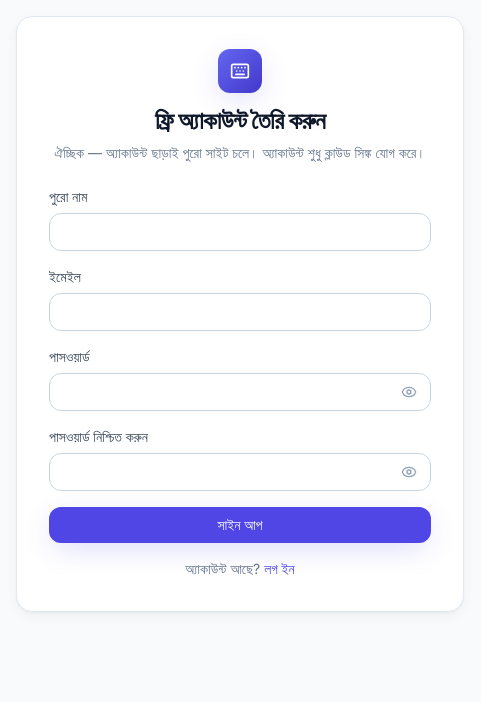
Scenario: RegisterPage validation › blocks submission with per-field errors when everything is empty
Click the button "সাইন আপ".
click(240, 525)  # box [49,507,431,543]
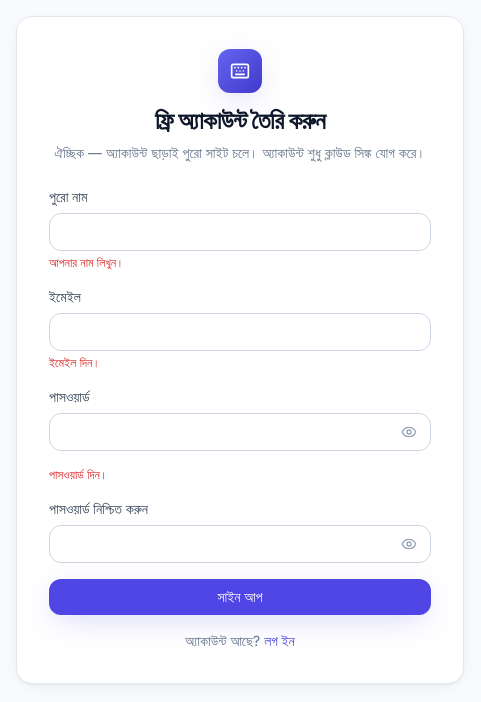
Result: the text "আপনার নাম লিখুন।" is shown at [49,255,124,270]
Result: the text "ইমেইল দিন।" is shown at [49,355,100,370]
Result: the text "পাসওয়ার্ড দিন।" is shown at [49,467,108,482]
